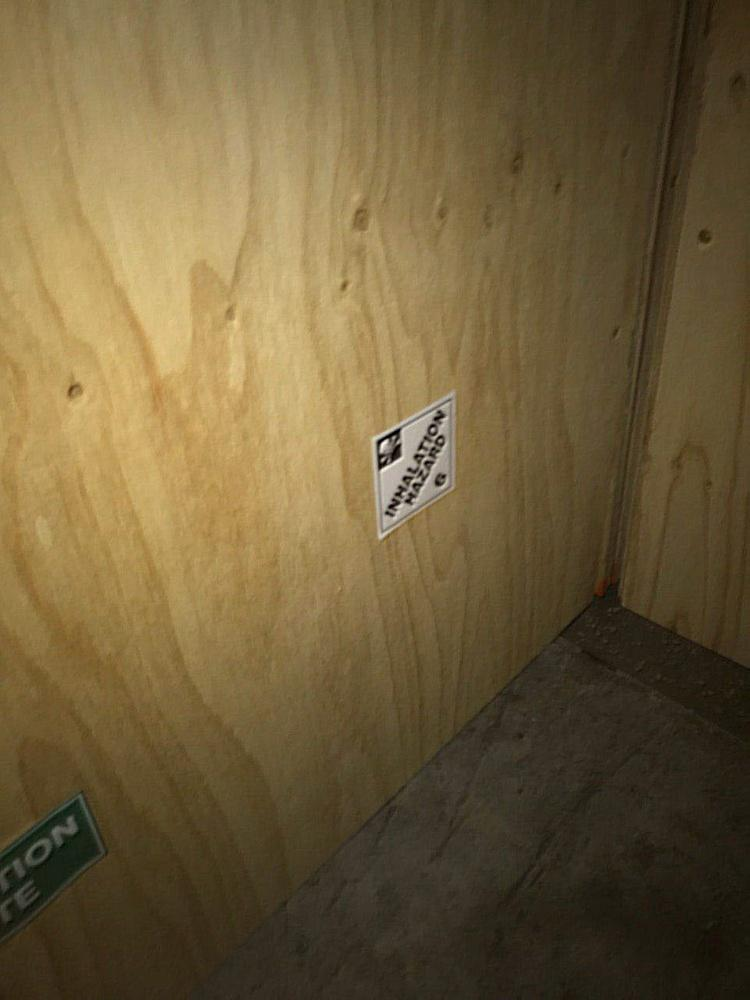poison: (367, 393, 465, 542)
